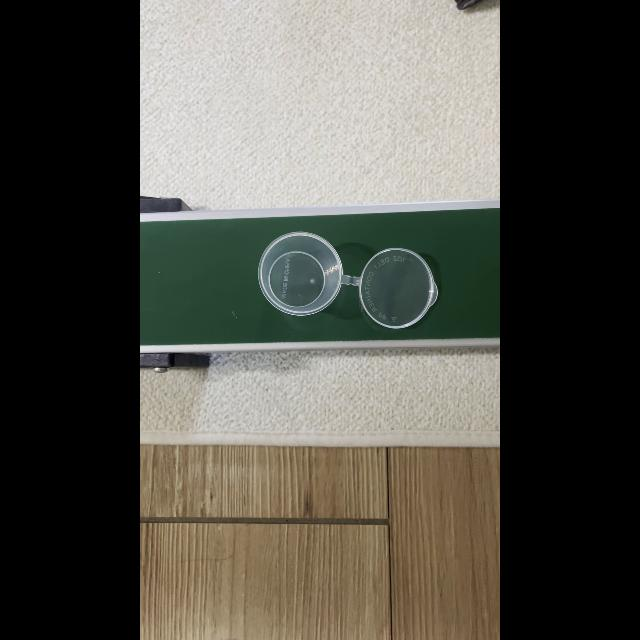clean: (356, 250, 438, 334), (260, 232, 338, 314)
